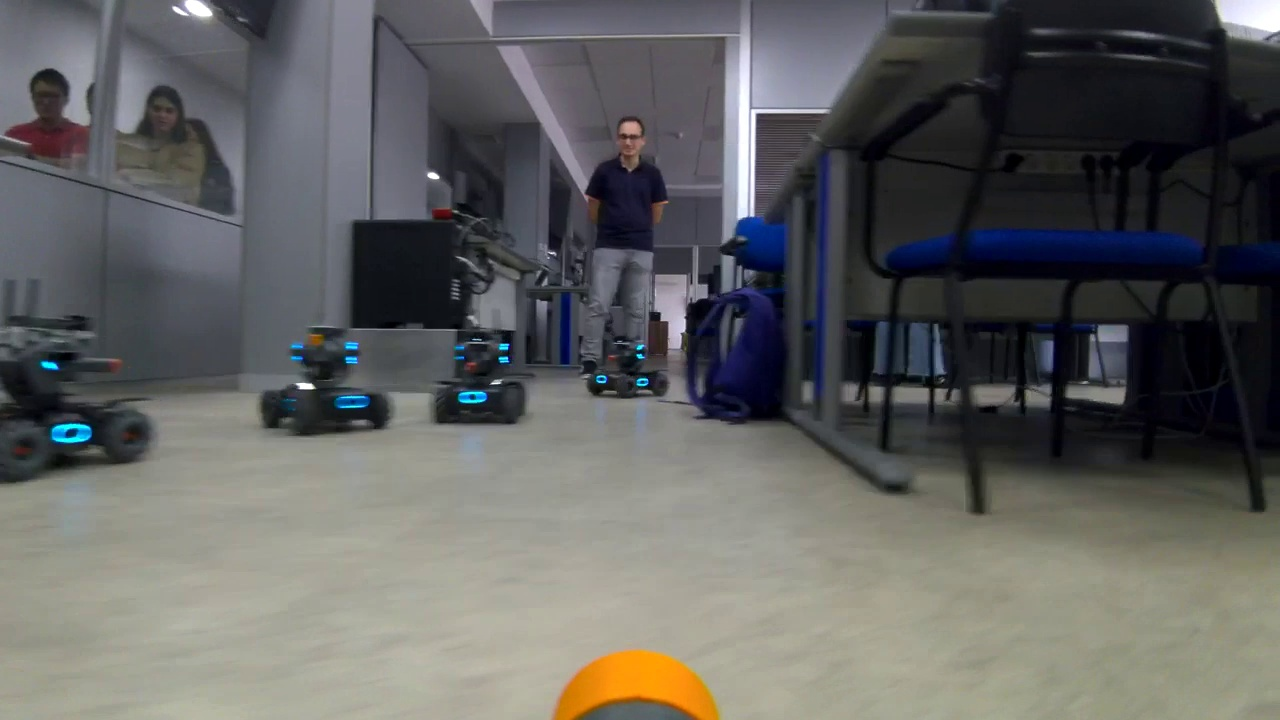robot: (1, 274, 151, 493), (256, 310, 400, 438), (436, 323, 540, 430), (586, 322, 679, 406)
